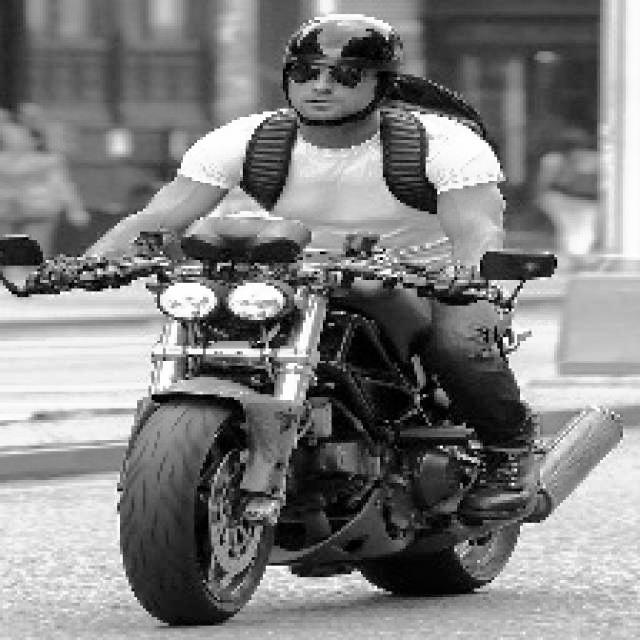Bike: (93, 236, 541, 622)
